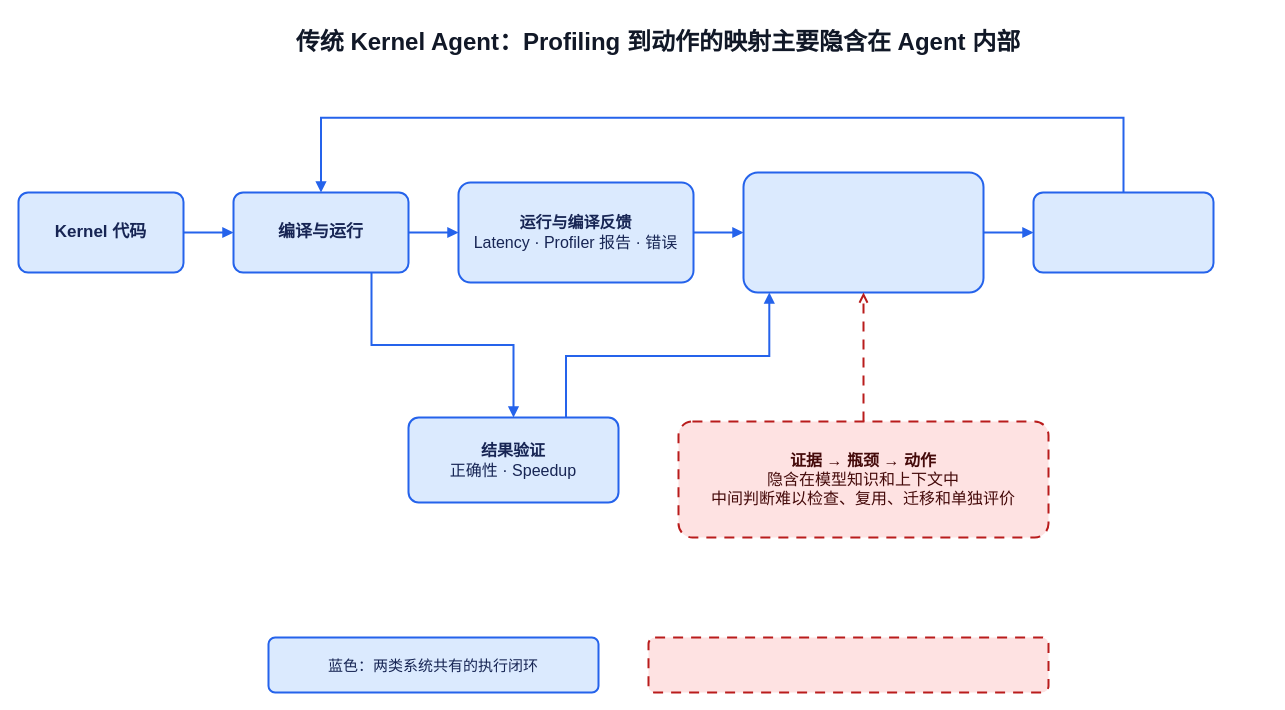
Some shapes in this 1285 by 710 pixel diagram are drawn without their labels. The shapes that lost their labels are listed below. From the top down, each one's box as (x1, y1, x2, y2) in pixels, then its label:
(742, 171, 984, 293): Agent / LLM 在上下文中理解瓶颈 依靠模型经验选择动作
(1032, 191, 1214, 273): 修改 Kernel
(647, 636, 1049, 693): 红色虚线：传统流程中未显式化的推理
